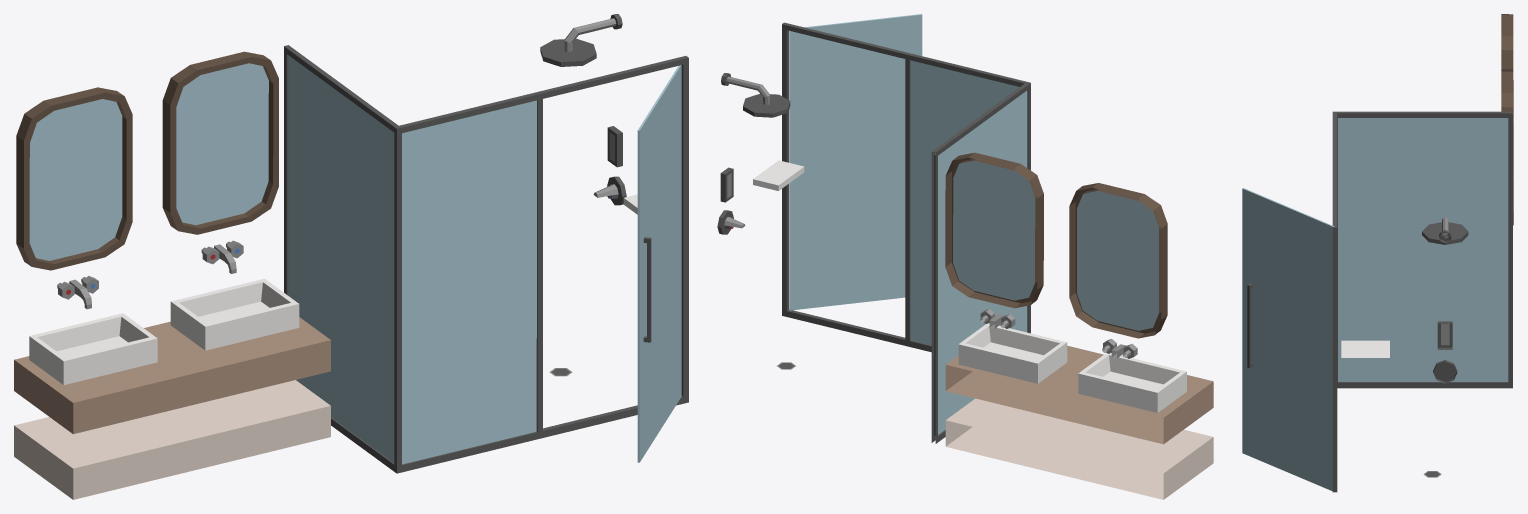
The model's file is Shower_set_1.fbx.
The picture shows the model from 3 angles, left to right: view 1: azimuth 30°, elevation 25°; view 2: azimuth 150°, elevation 25°; view 3: azimuth 270°, elevation 25°; orthographic projection. The views are drawn at different scales.
Parts seen in each view (by area): view 1: Shower_set_1; view 2: Shower_set_1; view 3: Shower_set_1.
Boxes of the visible parts, x1,y1,x2,y2 form: Shower_set_1: (14,14,688,499); Shower_set_1: (717,14,1213,499); Shower_set_1: (1242,14,1513,492).
Size of the model in its own units: 439 by 230 by 260.
